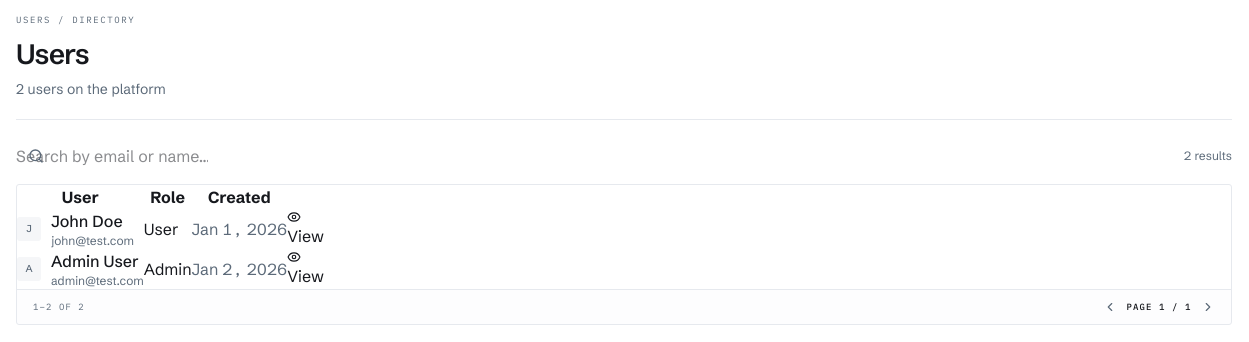
Test case: AdminUsersPage › la recherche filtre les utilisateurs par nom
The width and height of the screenshot is (1249, 342).
Expected: the text "John Doe" is shown, [51,208,134,232]
Type "Admin" into the field with placeholder "Search by email or name…".
click(112, 156); type("Admin")  # box [16,144,208,168]
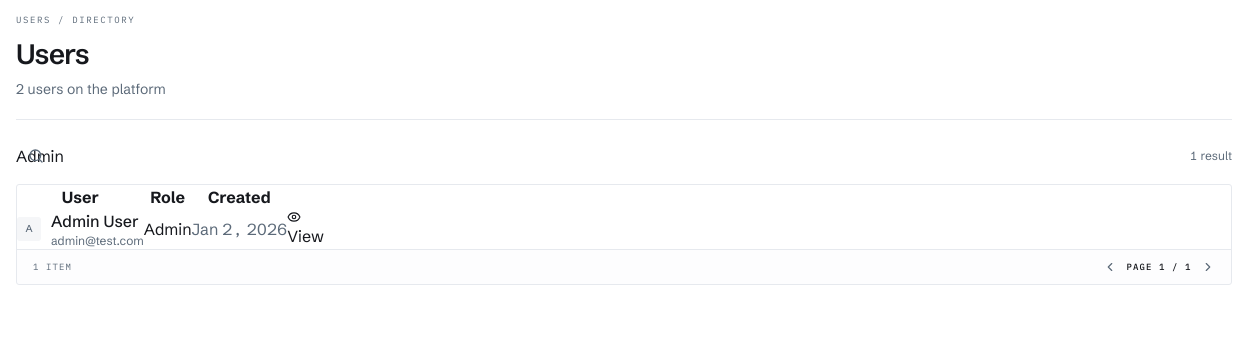
Expected: the text "Admin User" is shown, [51,208,144,232]
Expected: the text "John Doe" is gone
